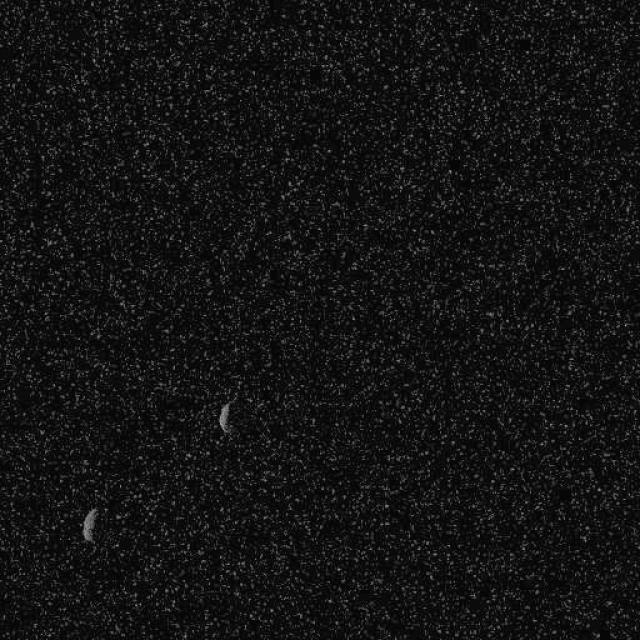D2: (80, 507, 99, 542), (218, 400, 232, 434)
